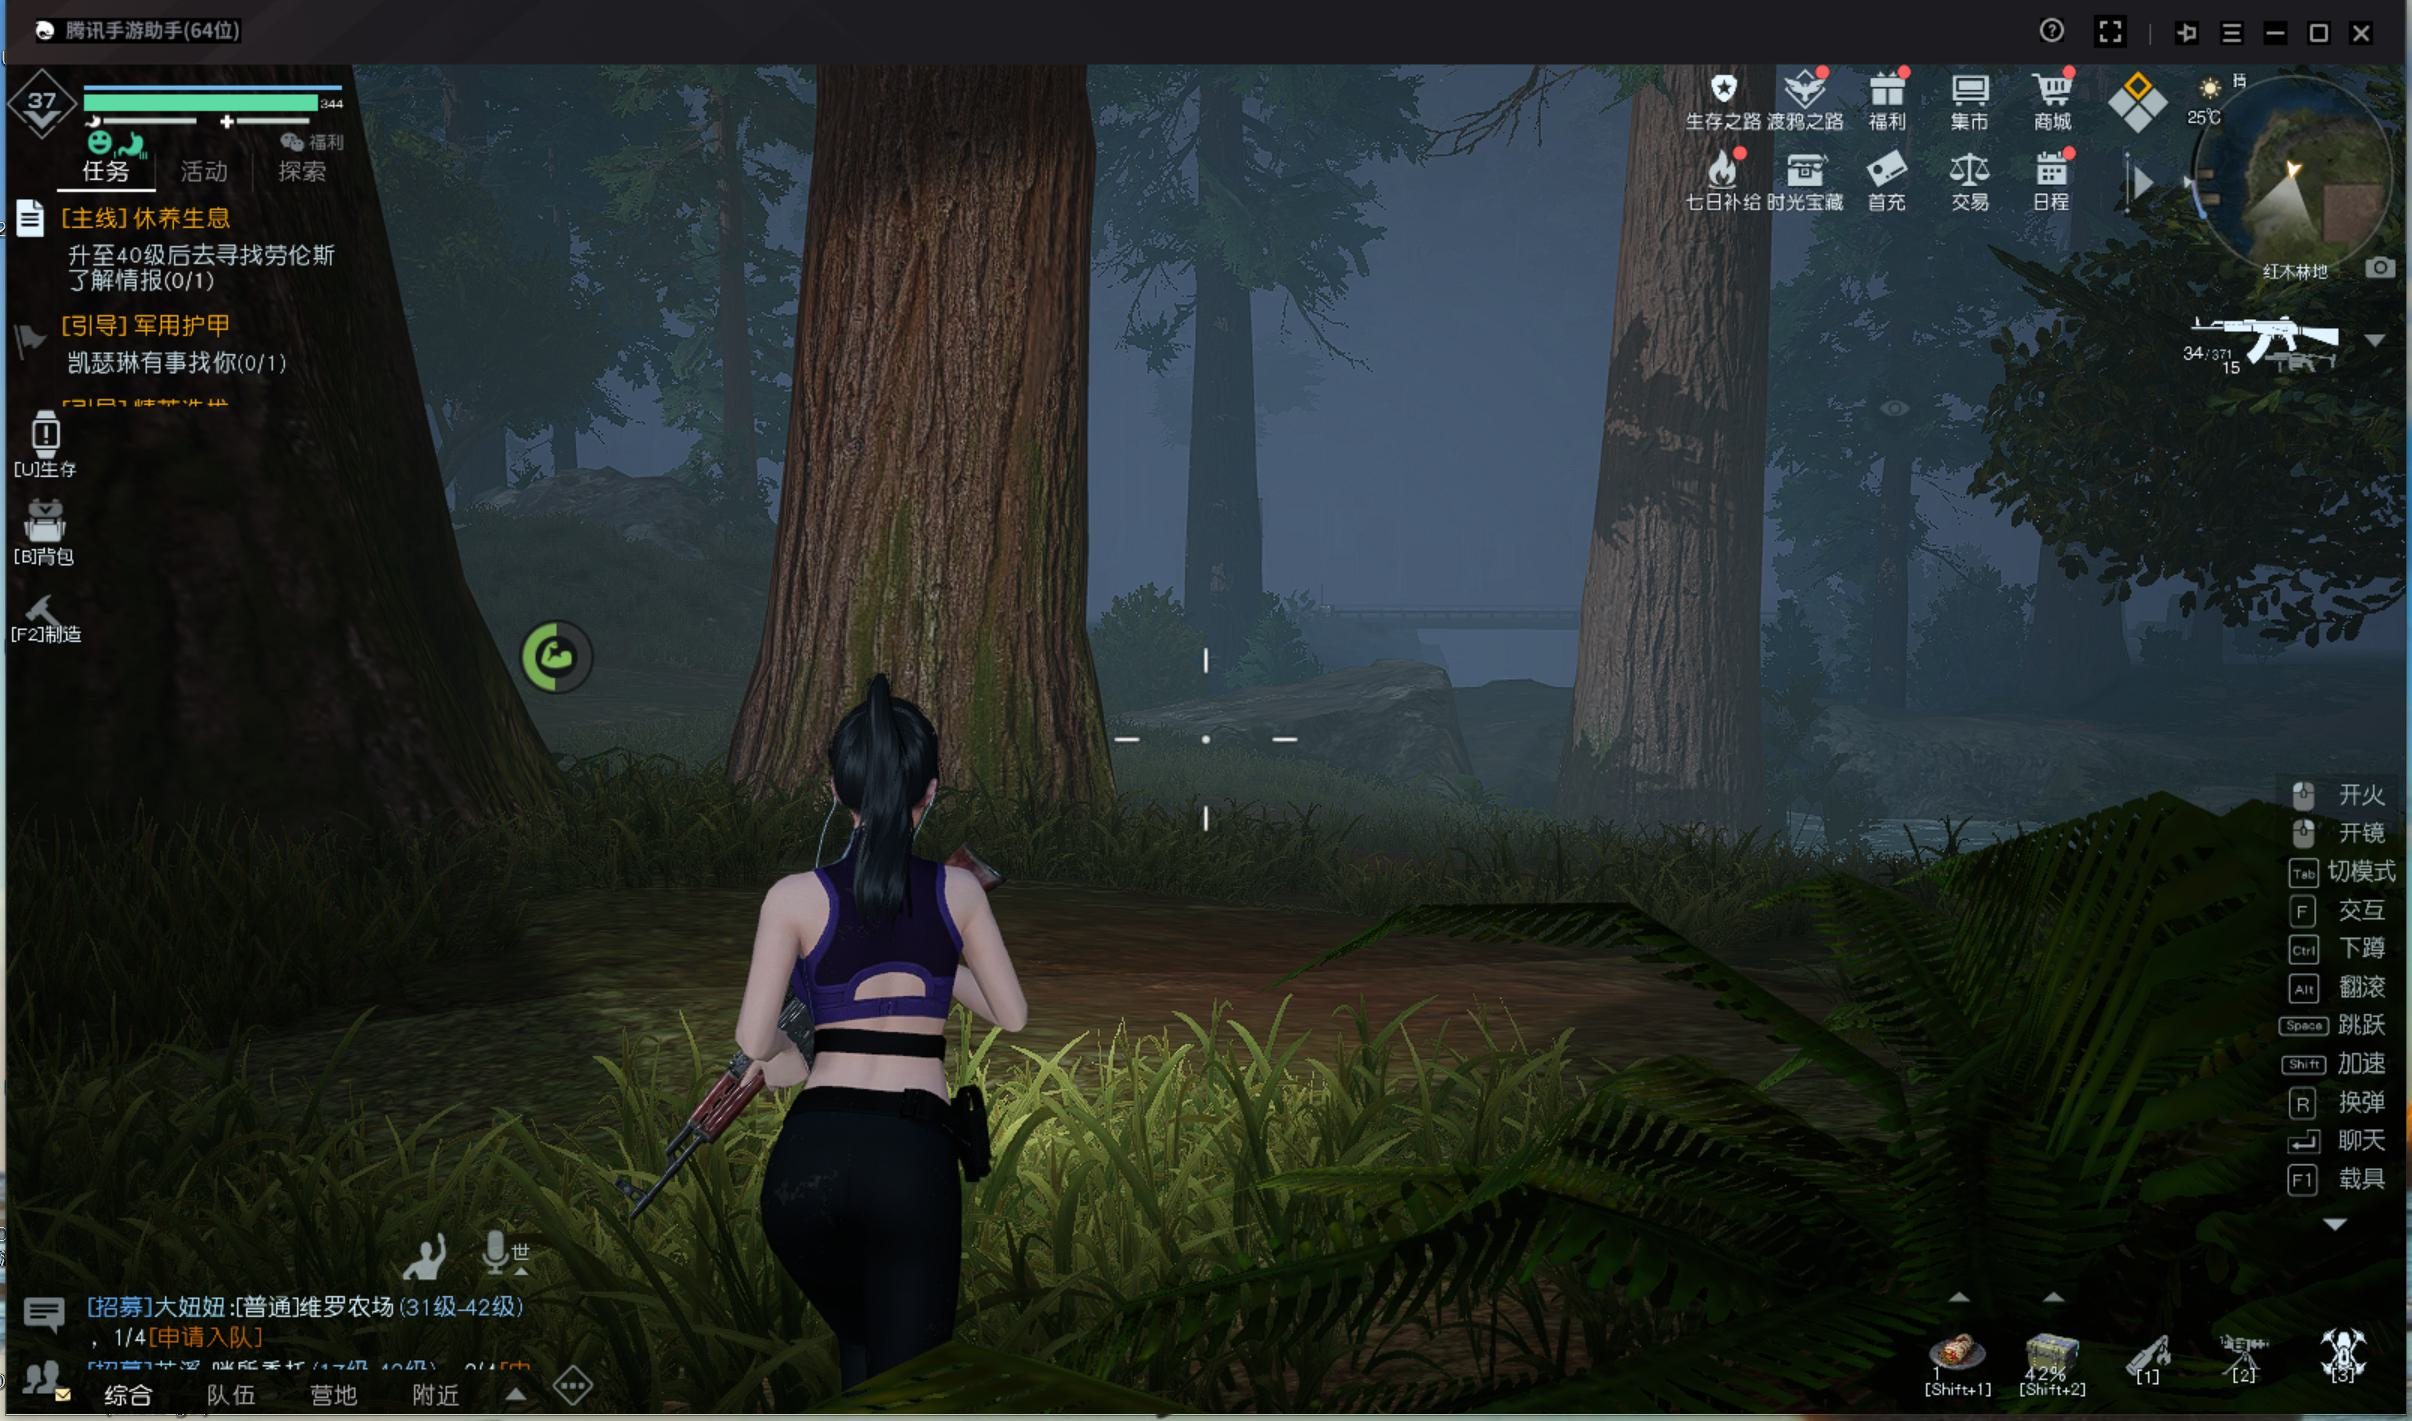tree: (748, 95, 1121, 886), (1588, 130, 1779, 853), (1174, 101, 1277, 695)
